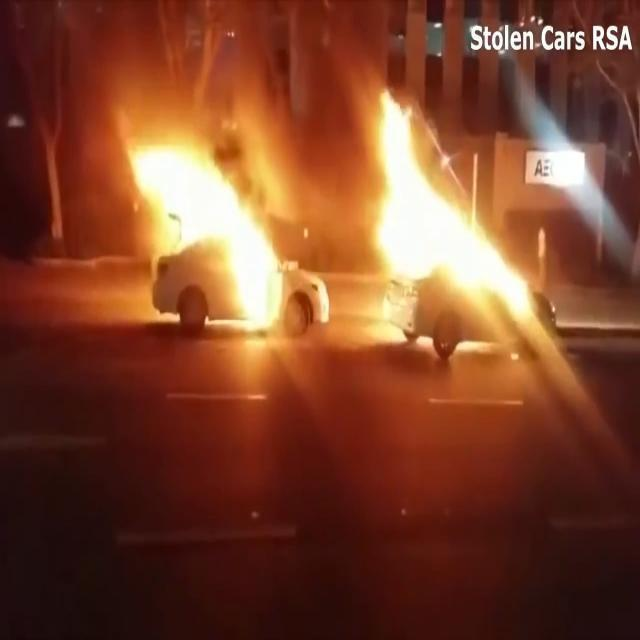fire: (372, 81, 534, 348), (131, 133, 290, 324)
